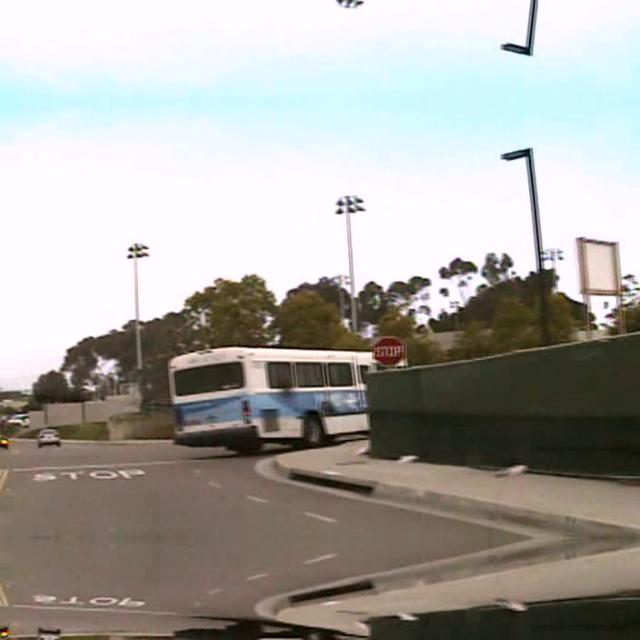stop: (372, 335, 406, 365)
